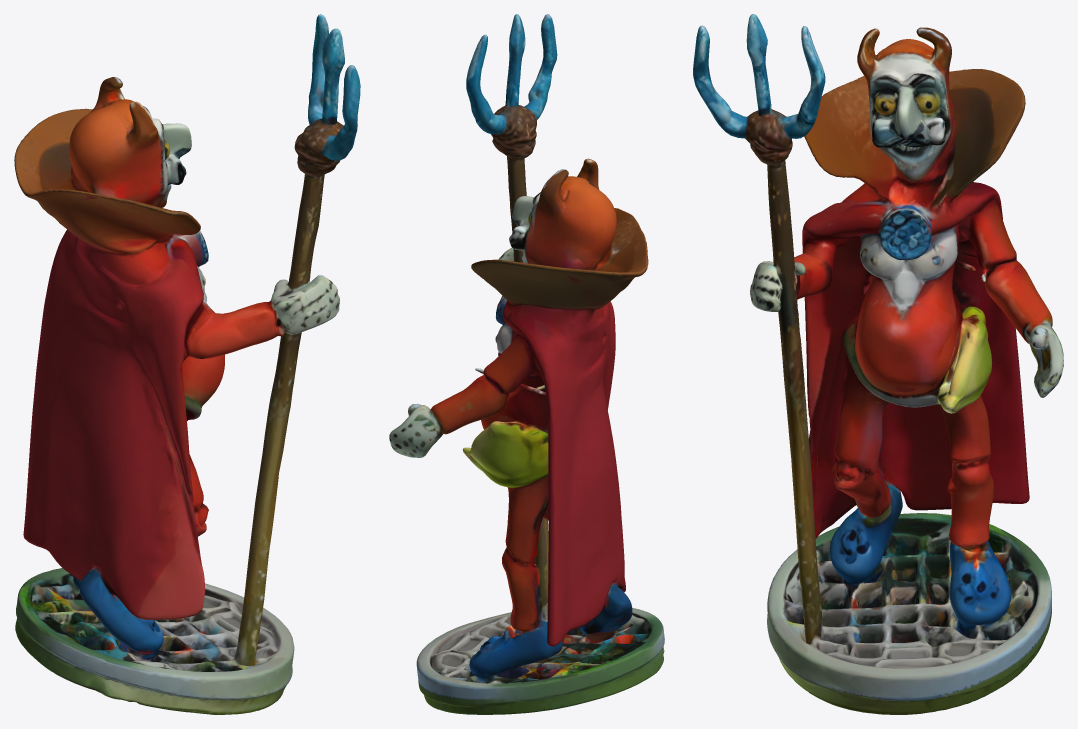
Rendered from diablo.glb.
3 views of the same model, side by side, from view 1: azimuth 30°, elevation 25°; view 2: azimuth 150°, elevation 25°; view 3: azimuth 270°, elevation 25° (orthographic). The views are drawn at different scales.
Parts seen in each view (by area): view 1: tripo_node_eeb4c871-db1d-43a6-a88b-b1d63e3fd2b4; view 2: tripo_node_eeb4c871-db1d-43a6-a88b-b1d63e3fd2b4; view 3: tripo_node_eeb4c871-db1d-43a6-a88b-b1d63e3fd2b4.
Boxes of the visible parts, x1,y1,x2,y2 form: tripo_node_eeb4c871-db1d-43a6-a88b-b1d63e3fd2b4: (14, 14, 360, 714); tripo_node_eeb4c871-db1d-43a6-a88b-b1d63e3fd2b4: (389, 14, 664, 714); tripo_node_eeb4c871-db1d-43a6-a88b-b1d63e3fd2b4: (693, 14, 1063, 714).
Size of the model in its own units: 0.3798 by 1 by 0.4805.
Materials: 1 (1 with a texture image).
